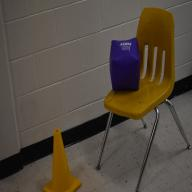cone: (43, 128, 81, 192)
cube: (109, 38, 141, 92)
